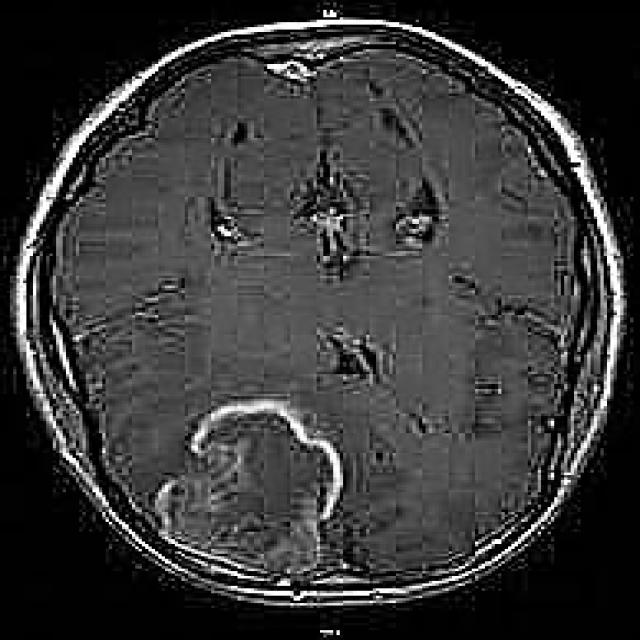Tumor-Cell: (147, 397, 372, 596)
